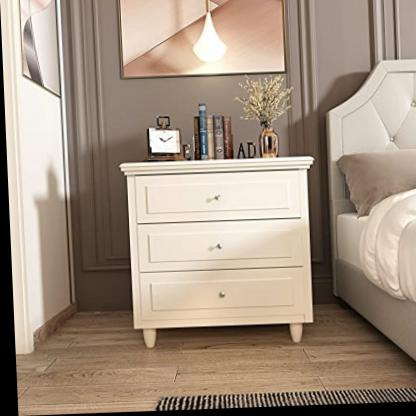Frame: (115, 0, 290, 83)
Nightstand: (118, 157, 323, 352)
